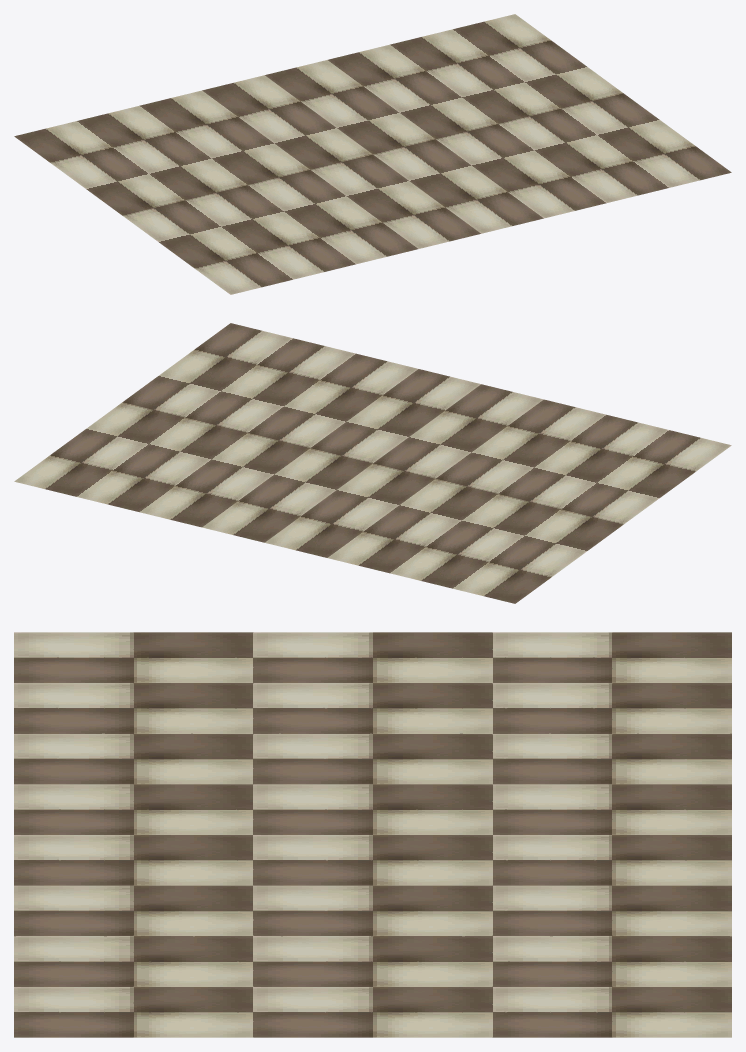
File: Floor.fbx
3 renders of one model, top to bottom at view 1: azimuth 30°, elevation 25°; view 2: azimuth 150°, elevation 25°; view 3: azimuth 270°, elevation 25°, orthographic. The views are drawn at different scales.
Parts seen in each view (by area): view 1: Batch_8.007; view 2: Batch_8.007; view 3: Batch_8.007.
Part boxes in pixels (<box>): Batch_8.007: <box>14,14,731,294</box>; Batch_8.007: <box>14,323,731,603</box>; Batch_8.007: <box>14,632,731,1037</box>.
Size of the model in its own units: 20100 by 0.00245 by 15050.
1 material, 1 textured.
